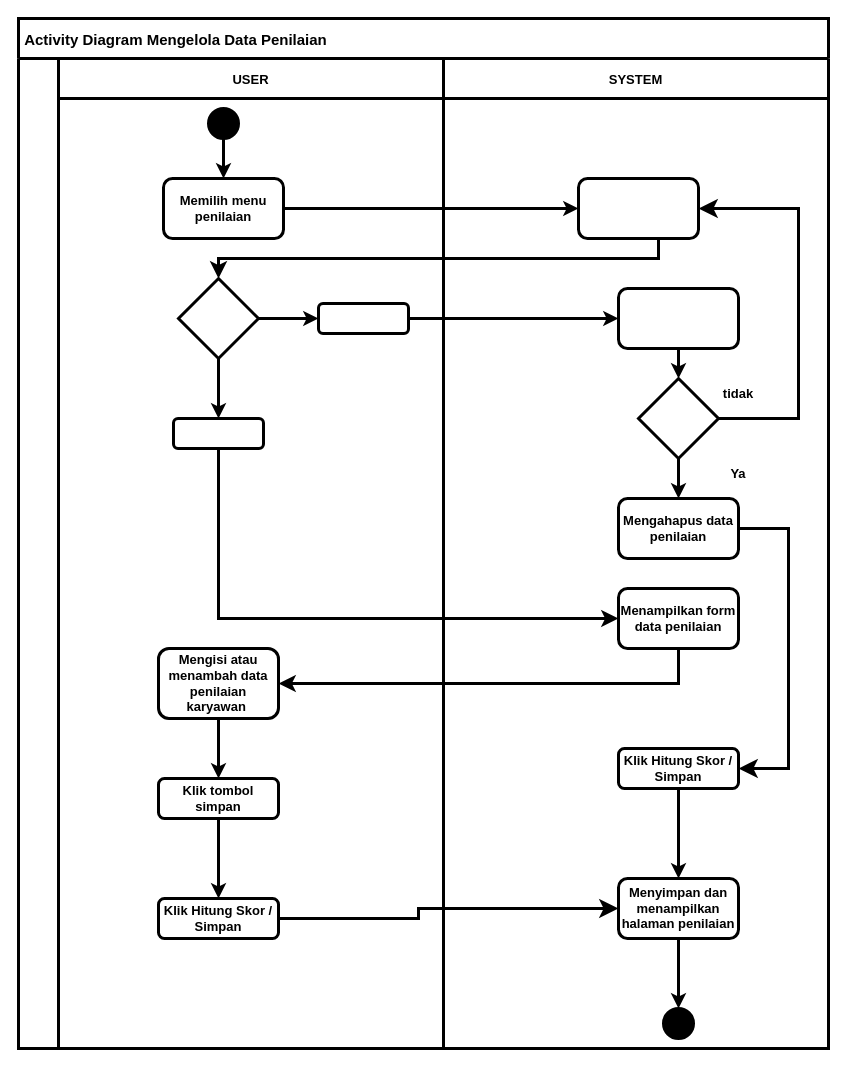
This 847x1067 diagram has some shape labels left out. Here are the shapes that lost their labels. From the top down, the centre of each, then its label:
point (638, 208): Menampilkan halaman penilaian
point (363, 318): Delete
point (678, 318): Menampilkan Konfirmasi hapus data
point (218, 433): Edit
